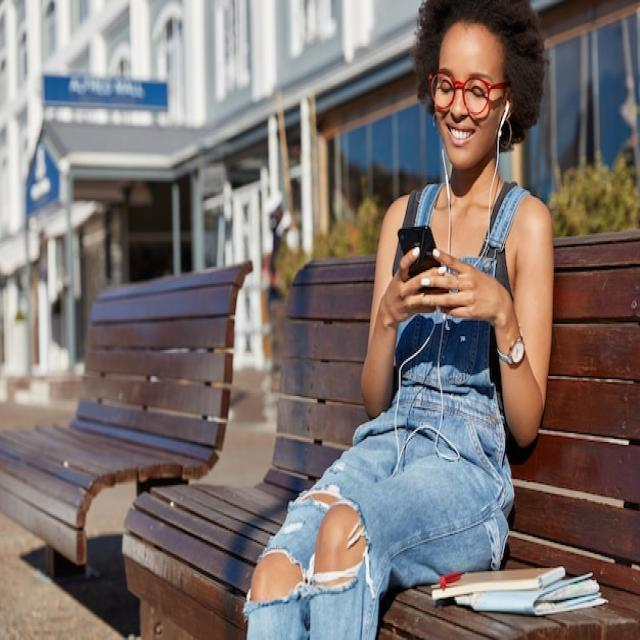Earphone: (391, 97, 512, 469)
